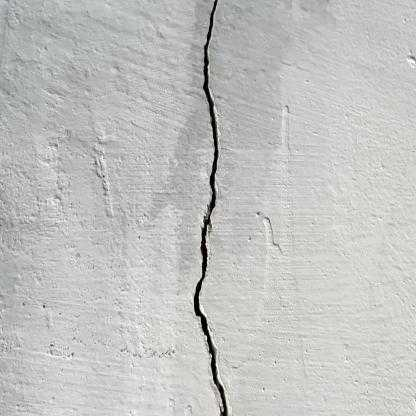crack: (192, 0, 229, 415)
